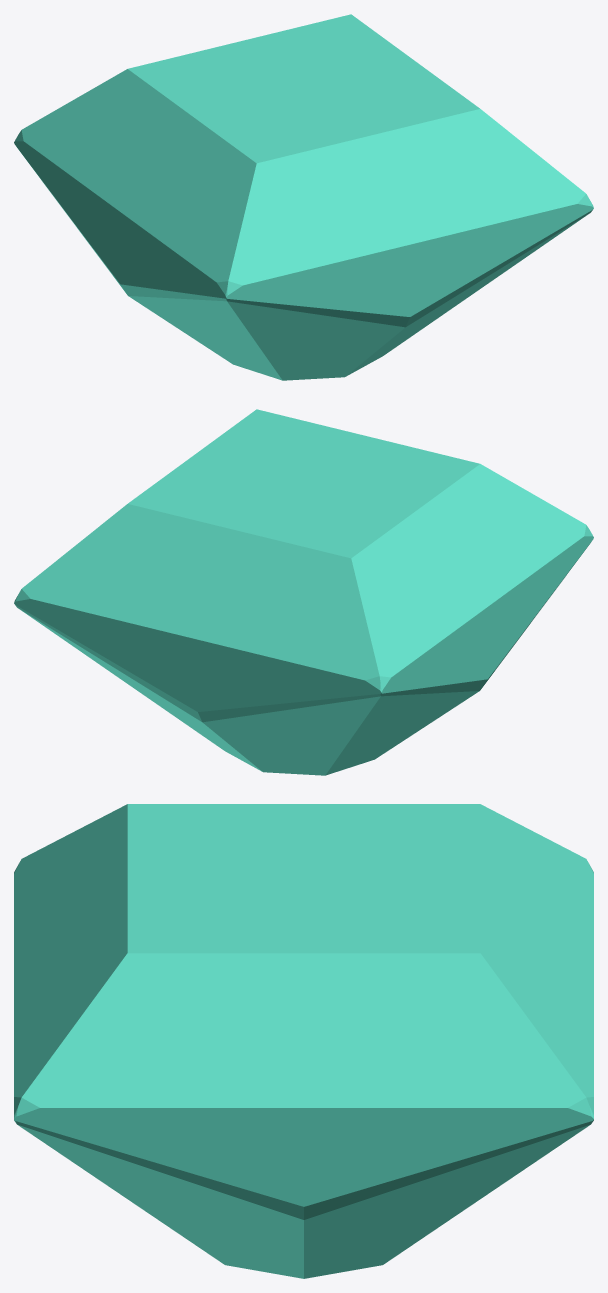
File: princess.glb
The picture shows the model from 3 angles, top to bottom: view 1: azimuth 30°, elevation 25°; view 2: azimuth 150°, elevation 25°; view 3: azimuth 270°, elevation 25°; orthographic projection. The views are drawn at different scales.
Parts seen in each view (by area): view 1: Prism_princess; view 2: Prism_princess; view 3: Prism_princess.
Boxes of the visible parts, x1,y1,x2,y2 form: Prism_princess: [14, 14, 593, 380]; Prism_princess: [14, 409, 593, 775]; Prism_princess: [14, 804, 593, 1278].
Bounding box in the file's own units: 1.92 × 1.29 × 1.92.
